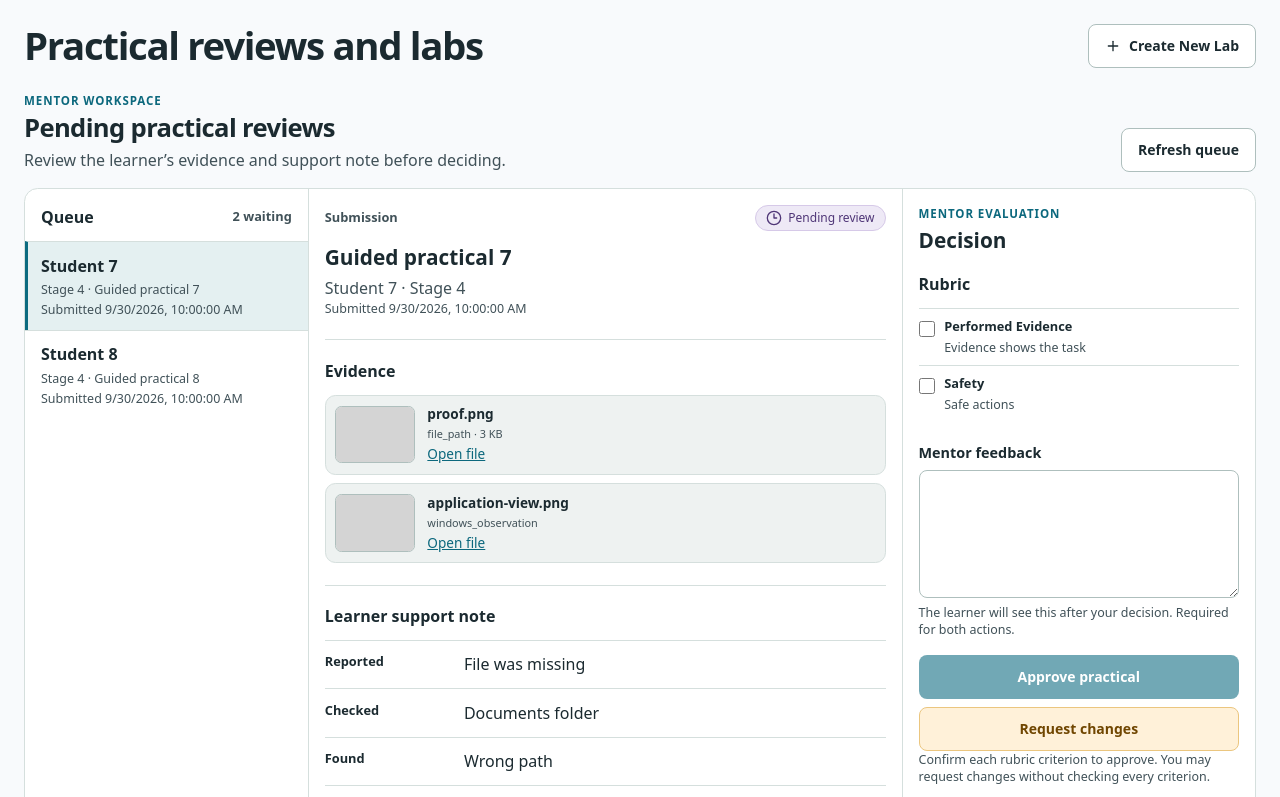
mentor practical review workspace › selects another learner without carrying note or rubric decisions across
The image size is (1280, 797).
Expected: the heading "Guided practical 7" is shown, [325, 243, 512, 271]
Type "Feedback for seven" into the text box labelled "Mentor feedback" at (1079, 534), box [918, 470, 1239, 598]
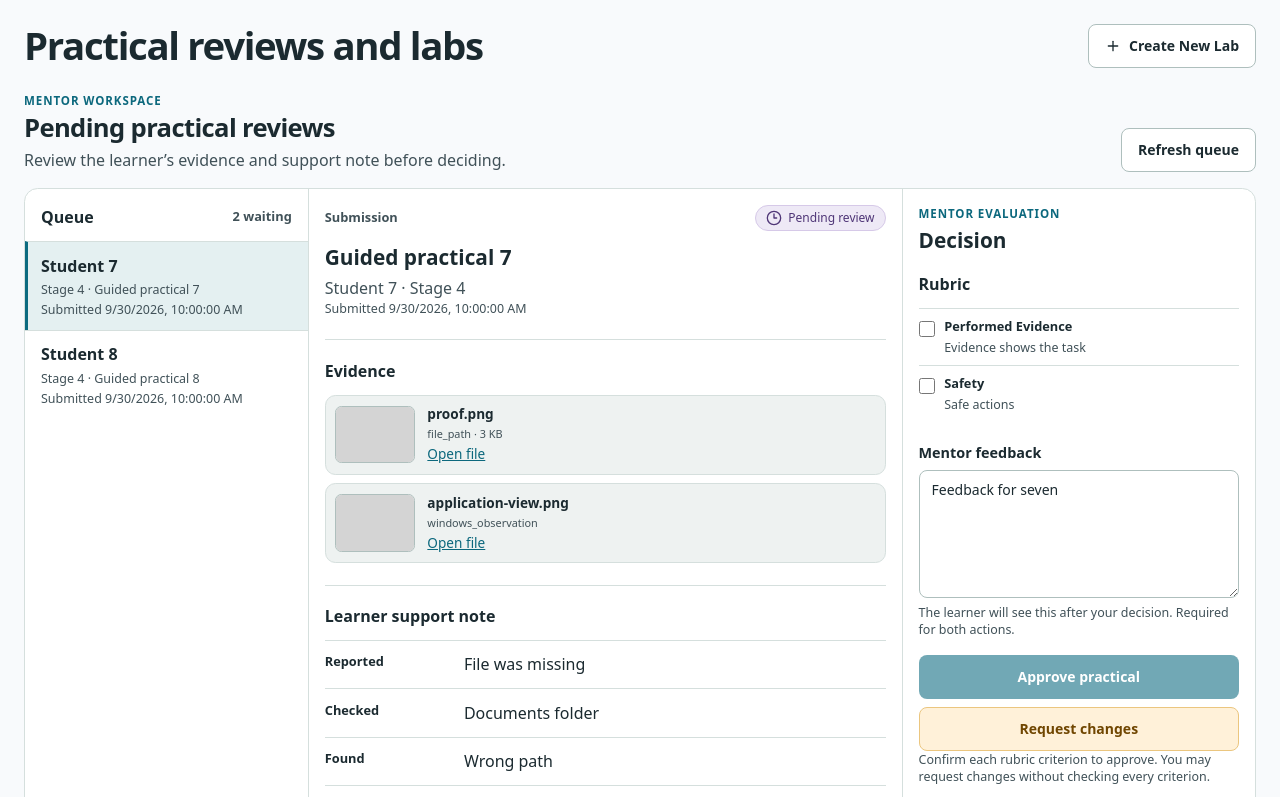
Click the checkbox labelled "performed evidence Evidence shows the task" at (926, 329), box [918, 321, 934, 337]
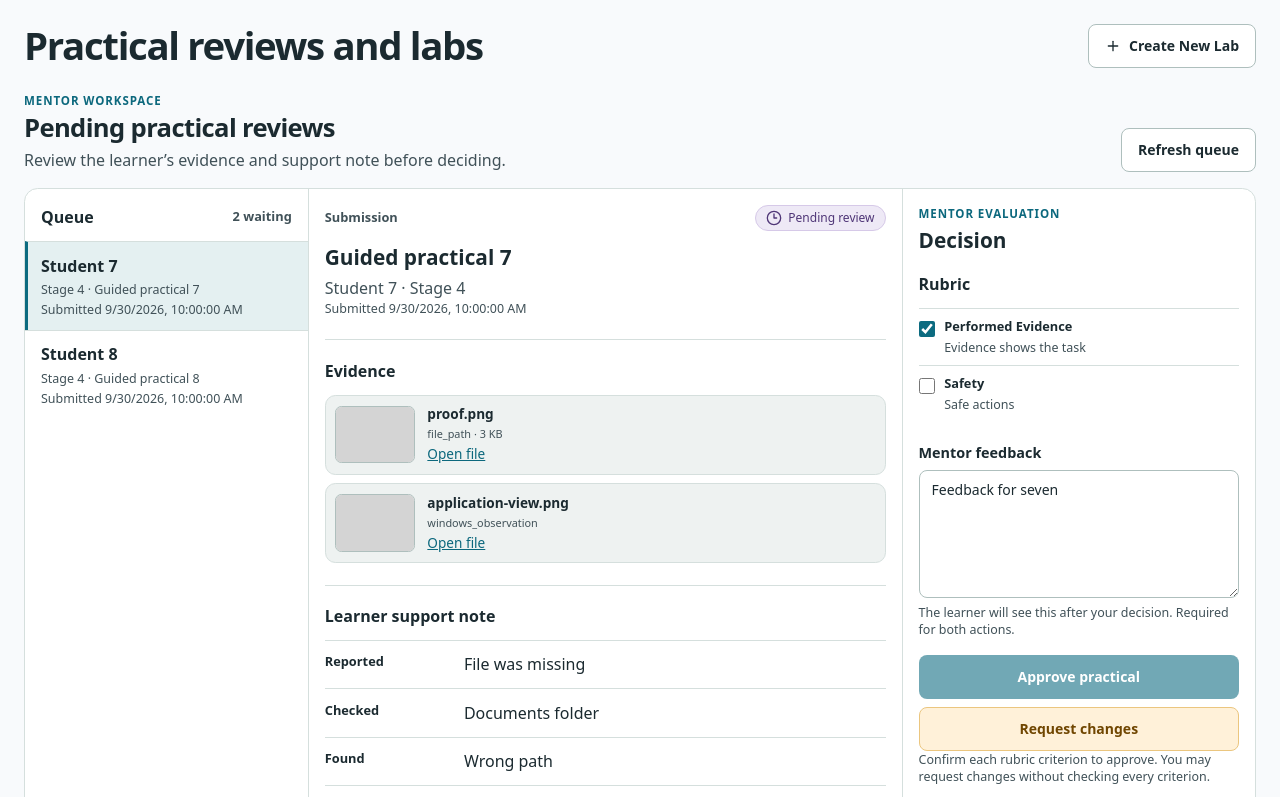
Click the button "Student 8" at (166, 374), box [25, 330, 308, 419]
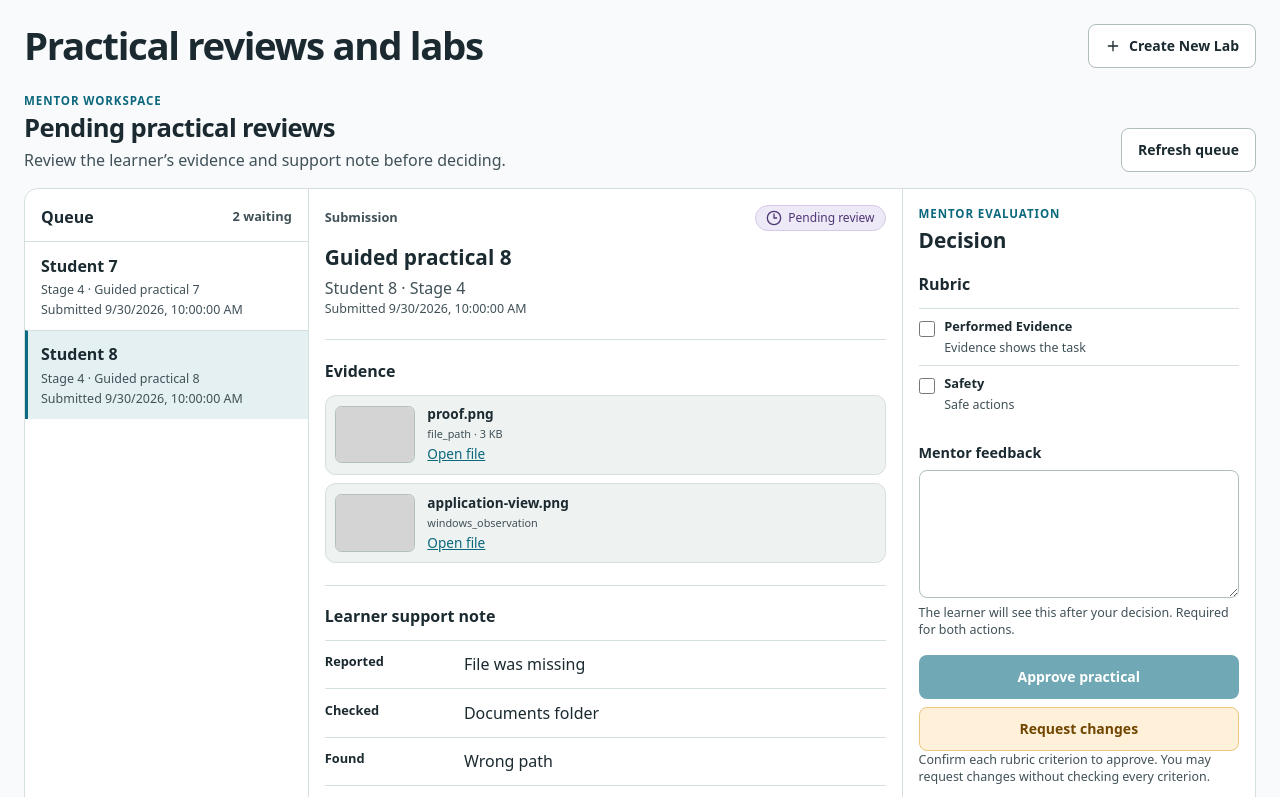
Result: the checkbox labelled "performed evidence Evidence shows the task" is not checked at [918, 321, 934, 337]
Result: the heading "Guided practical 8" is shown at [325, 243, 512, 271]
Result: the text box labelled "Mentor feedback" is empty at [918, 470, 1239, 598]
